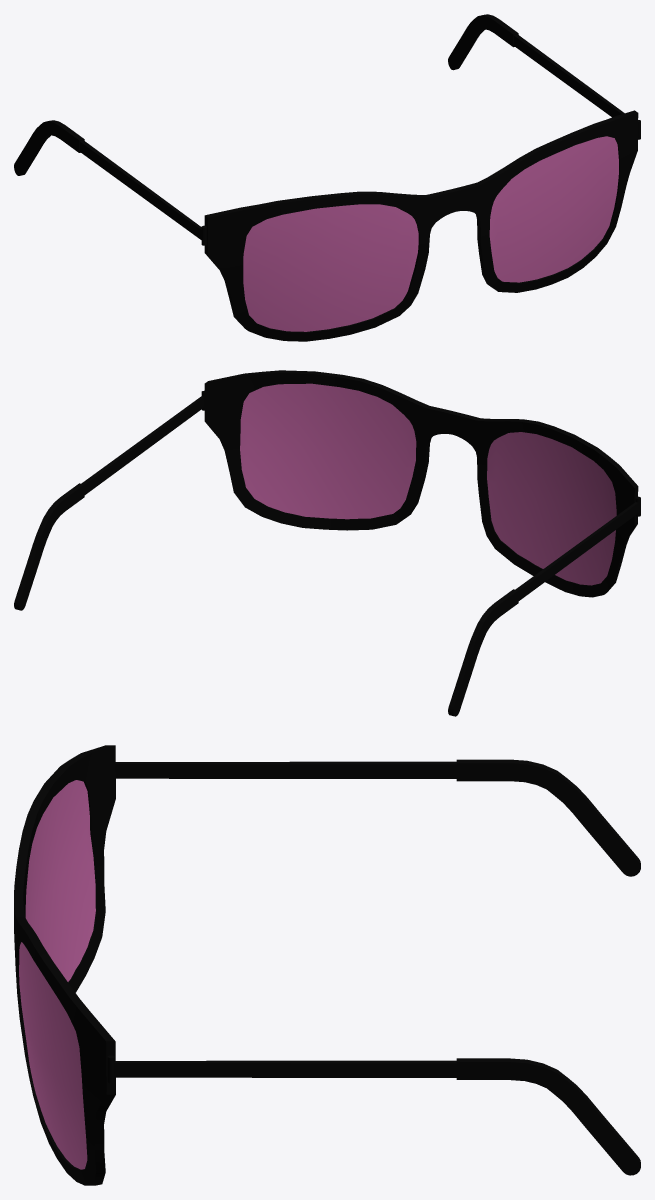
The model's file is glasses20.001.fbx.
3 views of the same model, one above another, from view 1: azimuth 30°, elevation 25°; view 2: azimuth 150°, elevation 25°; view 3: azimuth 270°, elevation 25° (orthographic). The views are drawn at different scales.
Parts seen in each view (by area): view 1: glasses20.001; view 2: glasses20.001; view 3: glasses20.001.
Part boxes in pixels (x1=…): glasses20.001: x1=14, y1=14, x2=640, y2=341; glasses20.001: x1=14, y1=370, x2=640, y2=716; glasses20.001: x1=14, y1=745, x2=640, y2=1185.
Bounding box in the file's own units: 2.17 × 0.7027 × 1.9.
